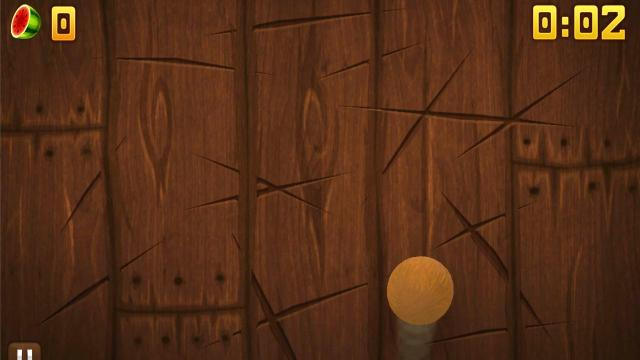fruit: (386, 255, 456, 325)
ignore: (9, 4, 43, 40)
